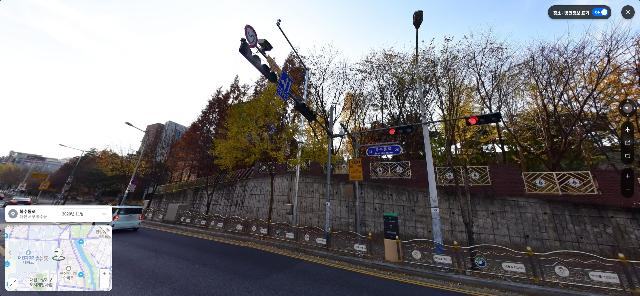ginkgo: (211, 72, 301, 172)
other: (407, 20, 512, 254), (506, 12, 640, 171), (268, 41, 358, 226), (342, 41, 427, 160), (192, 72, 244, 183), (166, 121, 216, 220), (148, 127, 186, 219), (128, 129, 164, 210), (82, 148, 132, 205)
